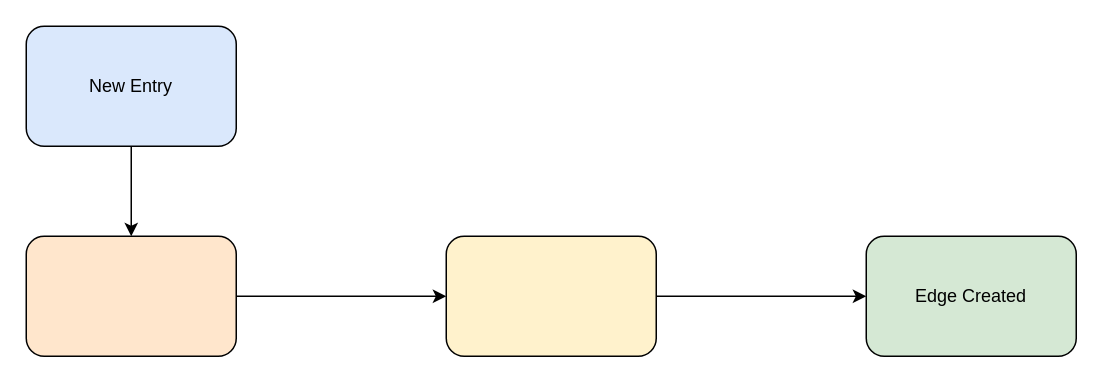
The diagram is 1103 pixels wide and 383 high, and some of its shapes have lost their labels. Each missing label, with the centre of its shape:
"Matched" belongs at [550,295].
"Node Upserted" belongs at [130,295].
